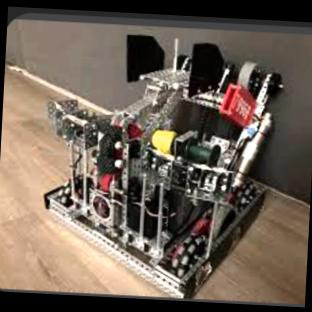Robot: (43, 33, 282, 296)
